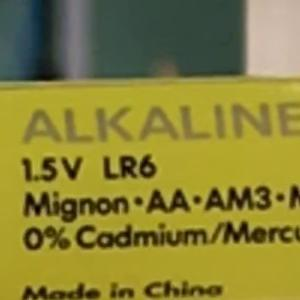keyword: (19, 100, 135, 142), (93, 144, 167, 190)
